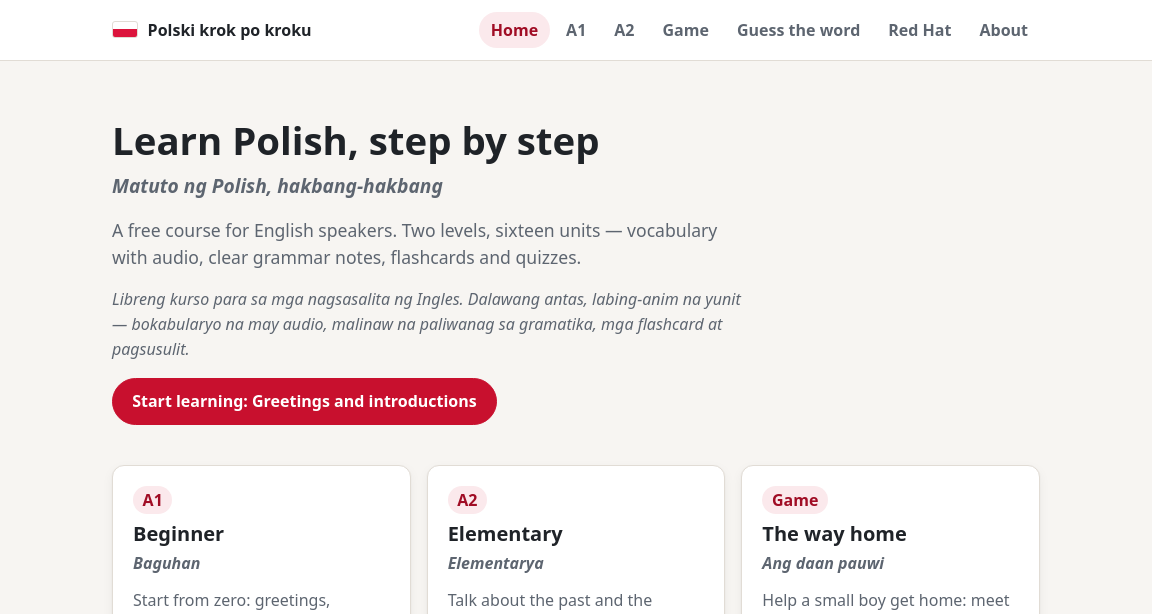
Test: App › opens the about page from the menu with the game and its author
This screenshot has width=1152, height=614.
Click the link "About": click(1004, 30) [980,19,1028,41]
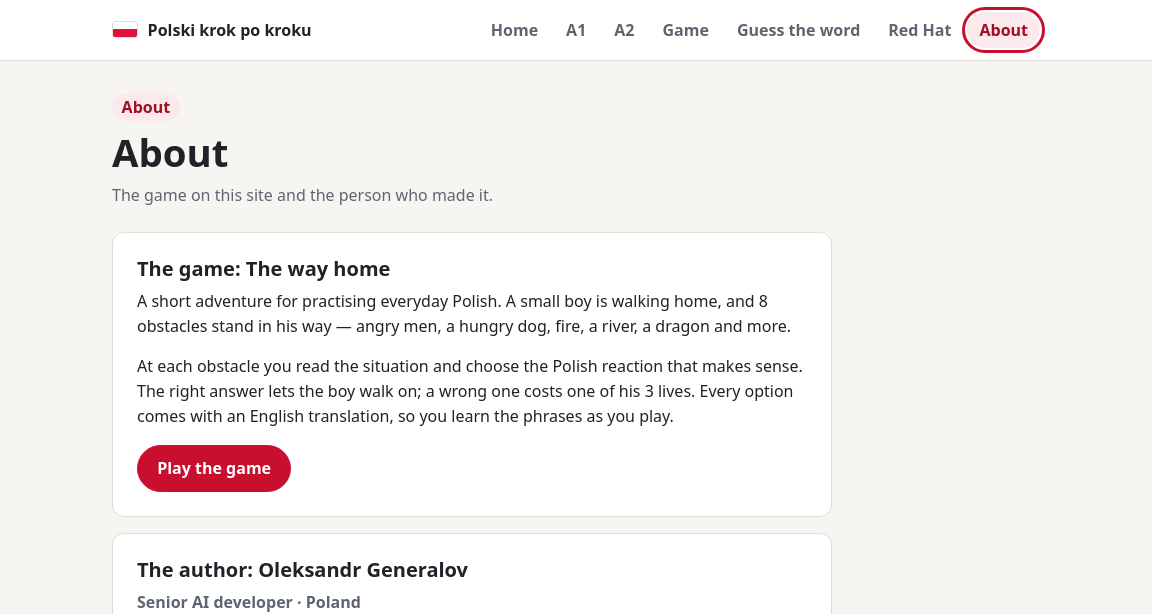
Expected: the heading "About" is shown, [112,126,228,178]
Expected: the heading "The game: The way home" is shown, [137,255,390,282]
Expected: the heading "The author: Oleksandr Generalov" is shown, [137,556,468,583]
